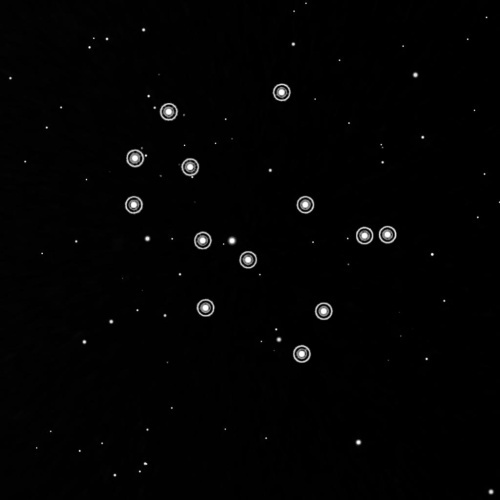gemini: (116, 81, 401, 370)
